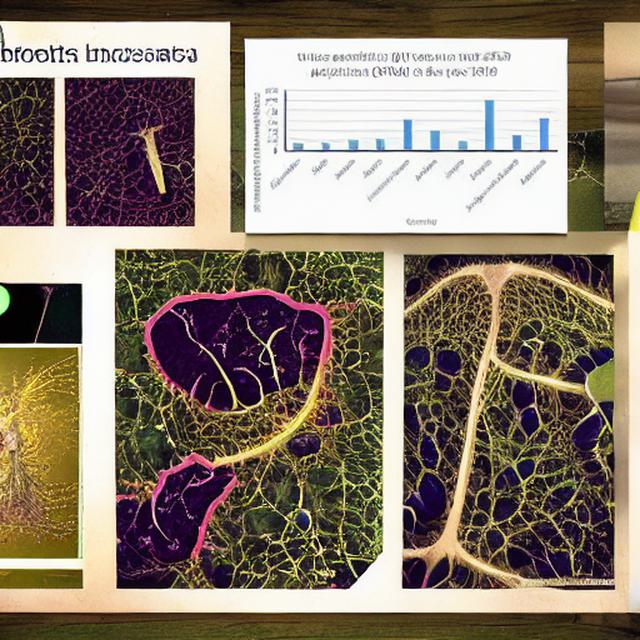Graph: (246, 44, 564, 229)
